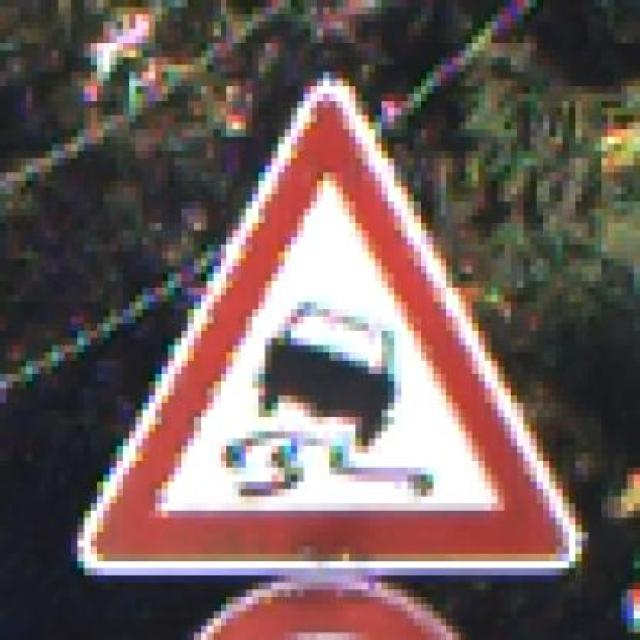Slippery Road Ahead: (57, 72, 588, 576)
